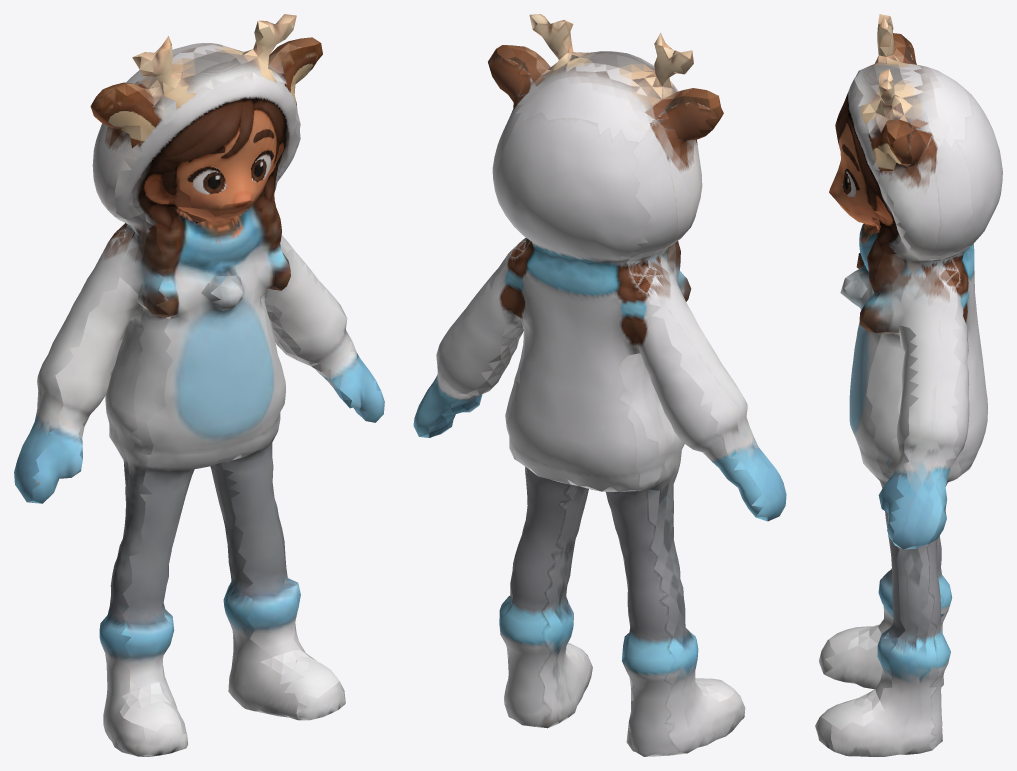
The model's file is snowflake-nutmeg-toon-before-hair.glb.
3 renders of one model, left to right at view 1: azimuth 30°, elevation 25°; view 2: azimuth 150°, elevation 25°; view 3: azimuth 270°, elevation 25°, orthographic. The views are drawn at different scales.
Visible parts, largest first — view 1: world; view 2: world; view 3: world.
Boxes of the visible parts, <box> form: world: <box>14,14,384,756</box>; world: <box>413,14,786,756</box>; world: <box>815,14,1002,756</box>.
Bounding box in the file's own units: 0.5063 × 0.9447 × 0.2371.
1 material, 1 textured.
